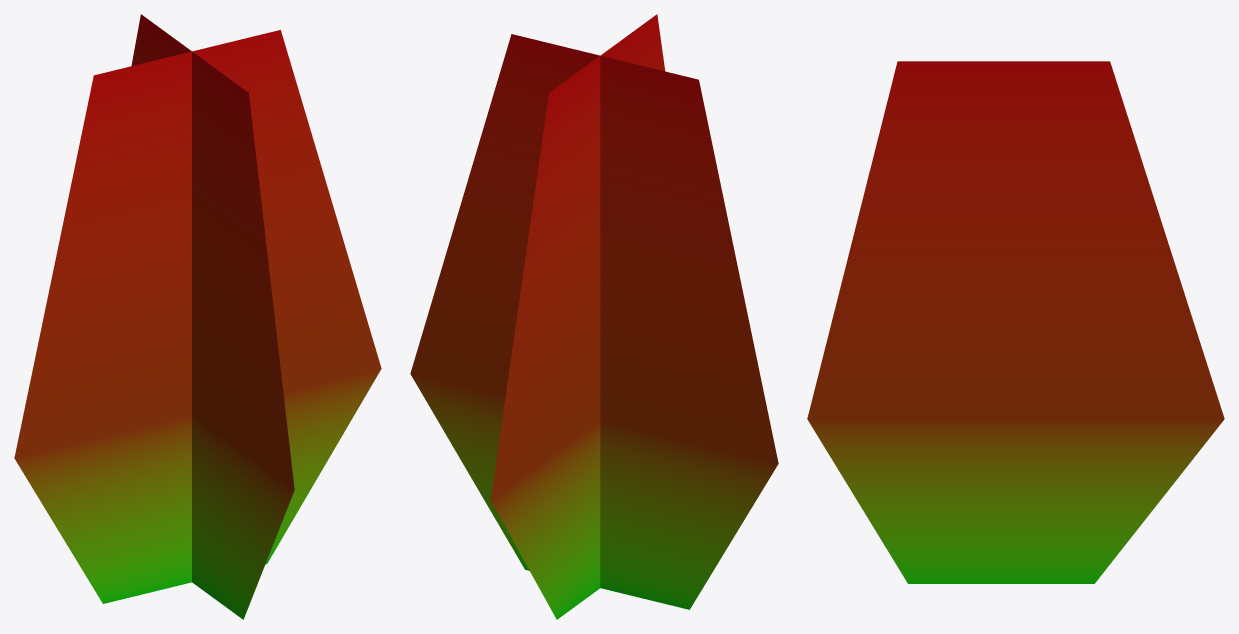
File: Var5_LOD5.fbx
The picture shows the model from 3 angles, left to right: view 1: azimuth 30°, elevation 25°; view 2: azimuth 150°, elevation 25°; view 3: azimuth 270°, elevation 25°; orthographic projection.
Visible parts, largest first — view 1: _03tr_Var5_LOD5; view 2: _03tr_Var5_LOD5; view 3: _03tr_Var5_LOD5.
Boxes of the visible parts, x1,y1,x2,y2 form: _03tr_Var5_LOD5: [14, 14, 381, 619]; _03tr_Var5_LOD5: [410, 14, 778, 619]; _03tr_Var5_LOD5: [807, 61, 1224, 583].
Bounding box in the file's own units: 90.43 × 125 × 90.43.
